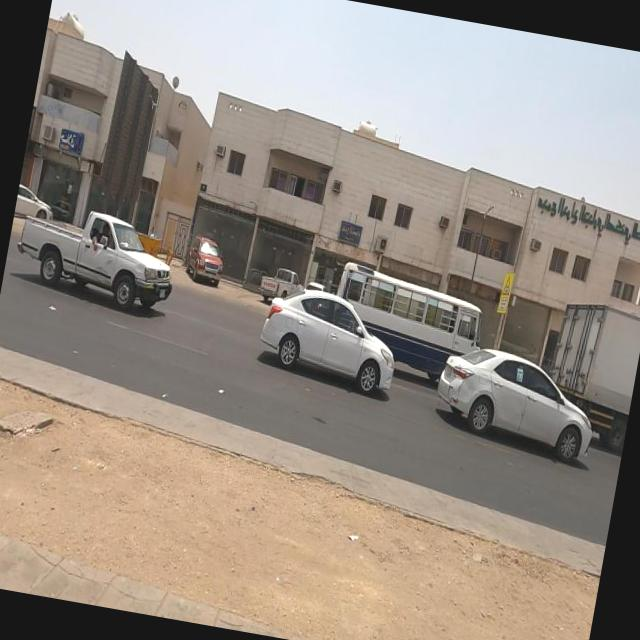debris: (286, 213, 402, 281), (365, 228, 463, 307), (319, 502, 382, 571), (193, 358, 249, 419), (137, 210, 180, 260), (34, 281, 76, 332)
